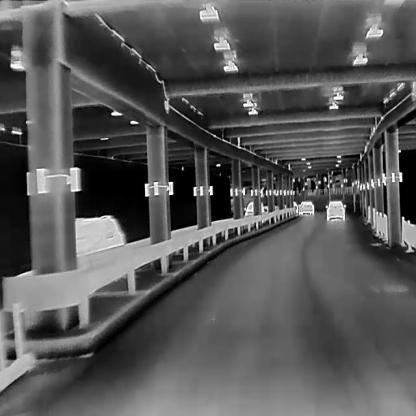car: (73, 214, 125, 263), (325, 200, 346, 221), (243, 200, 264, 216), (298, 201, 313, 215)
